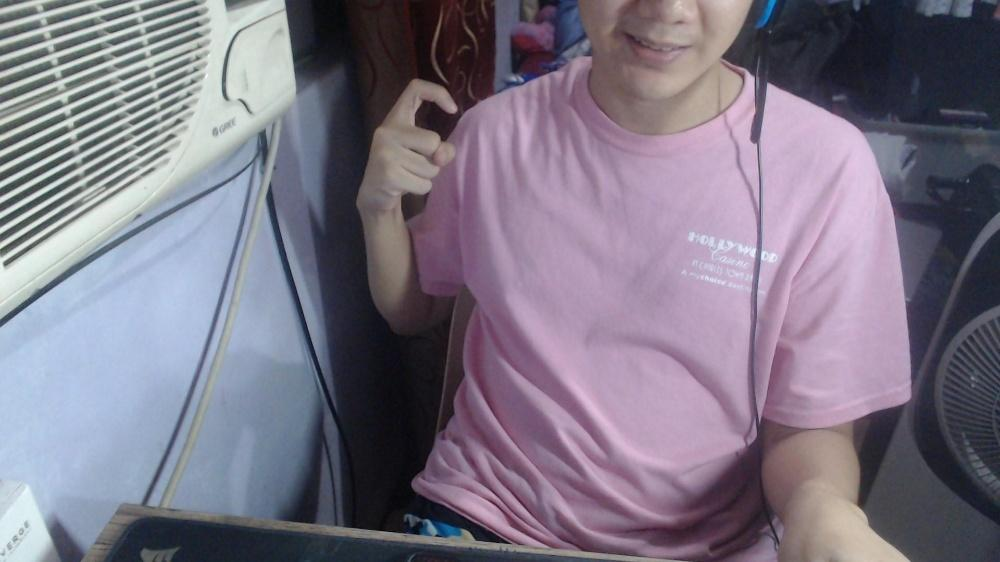x: (351, 70, 462, 219)
